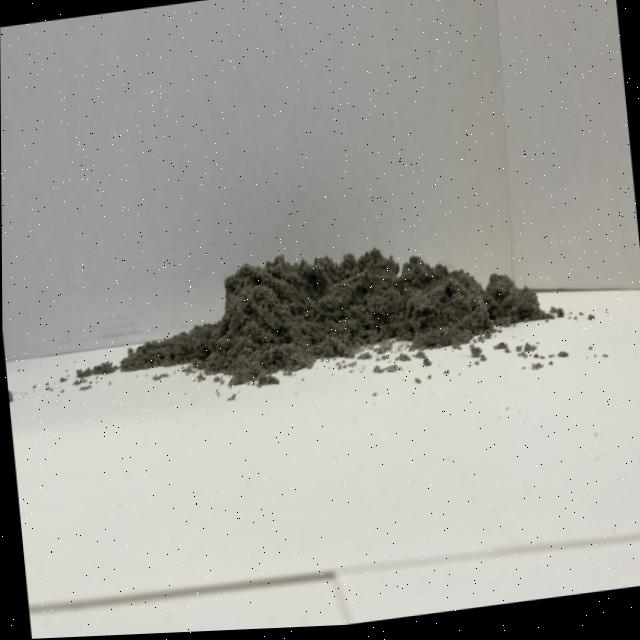sand: (100, 212, 533, 404)
